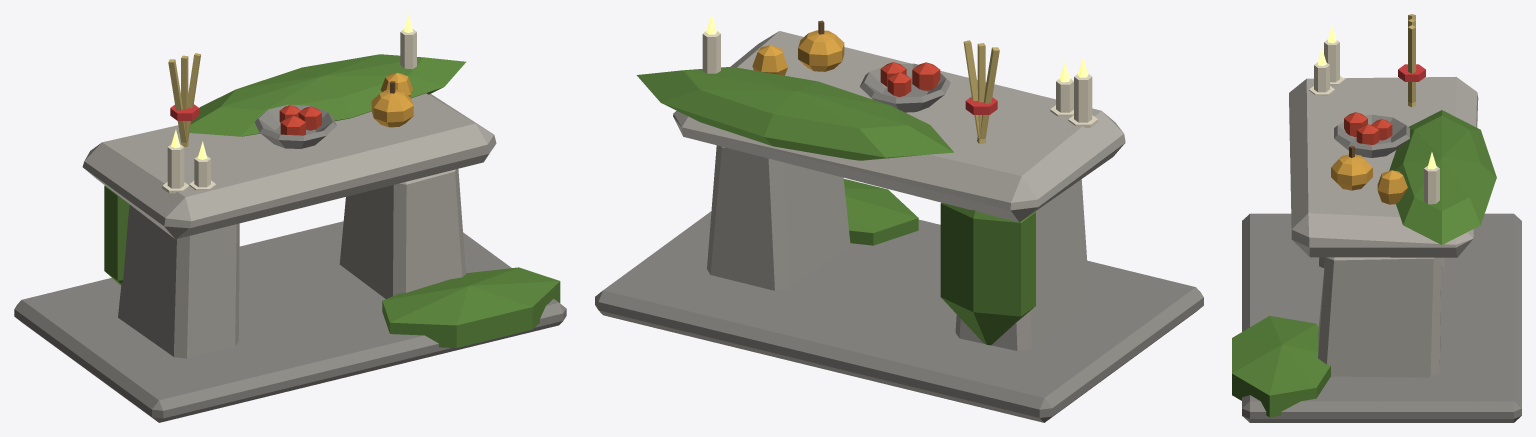
The model's file is grove_altar.glb.
3 renders of one model, left to right at view 1: azimuth 30°, elevation 25°; view 2: azimuth 150°, elevation 25°; view 3: azimuth 270°, elevation 25°, orthographic. The views are drawn at different scales.
Parts seen in each view (by area): view 1: grove_altar; view 2: grove_altar; view 3: grove_altar.
Boxes of the visible parts, bbox=[...] form: grove_altar: bbox=[14, 14, 566, 422]; grove_altar: bbox=[595, 14, 1203, 422]; grove_altar: bbox=[1232, 14, 1521, 422].
Bounding box in the file's own units: 2.32 × 1.47 × 1.45.
